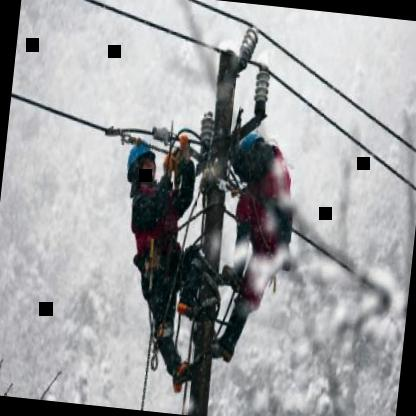helmet: (122, 132, 162, 195)
